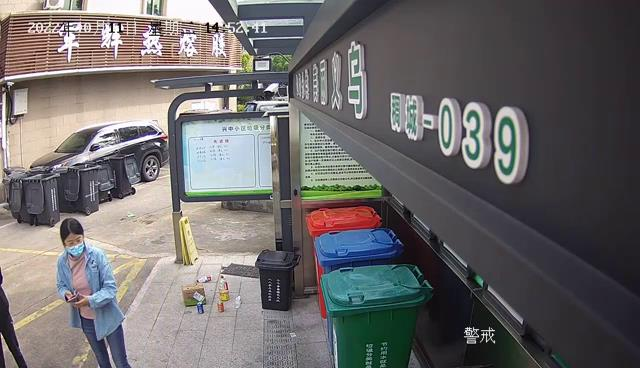lvzhipin: (196, 299, 204, 315), (216, 300, 225, 312)
suliaozhipin: (217, 273, 231, 302), (195, 275, 212, 282)
worker: (55, 216, 132, 368)
zhizhipin: (180, 281, 206, 307)
